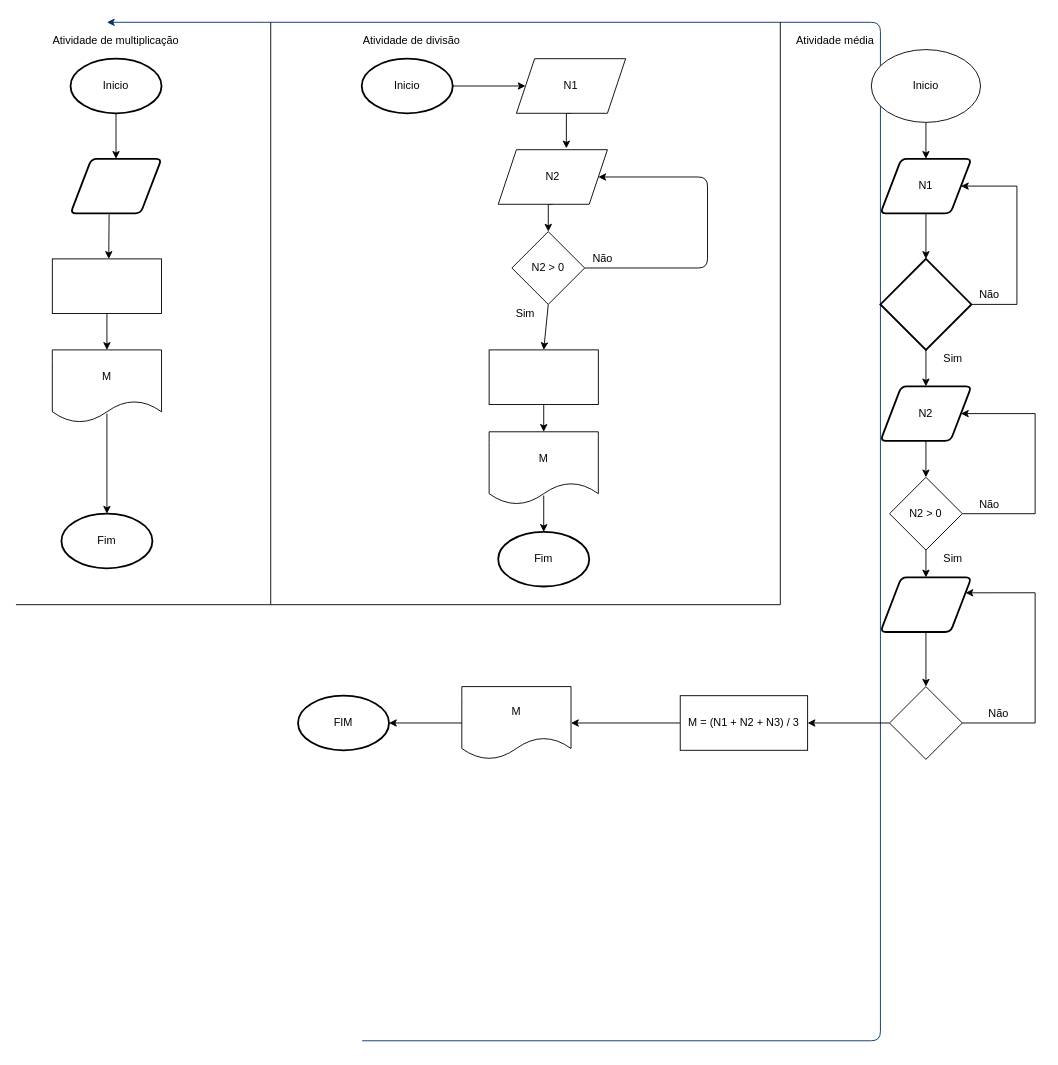
Some shapes in this 1058 by 1065 pixel diagram are drawn without their labels. Each missing label, with the centre of its shape:
"M = N1 * N2" goes at point (106, 285).
"M = N1 / N2" goes at point (543, 376).
"N1 > 0" goes at point (925, 304).
"N1,N2" goes at point (115, 185).
"N3" goes at point (925, 604).
"N3 > 0" goes at point (925, 722).
